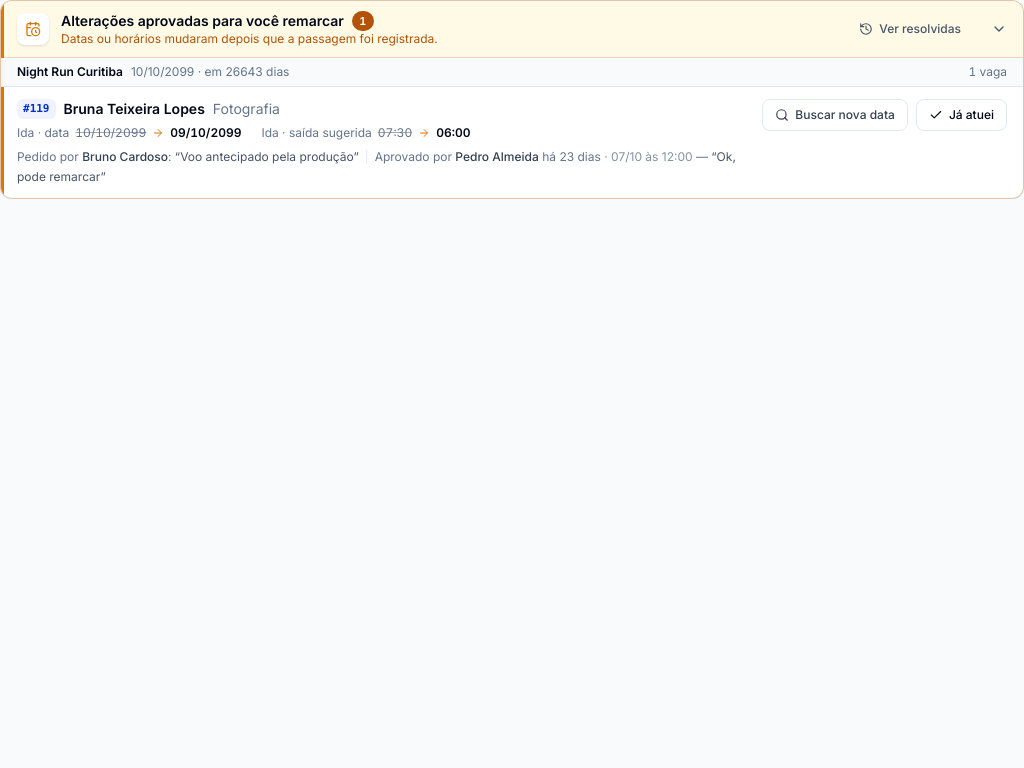
Test: BlocoDeAvisos (passagem) › erro que não é 409 fica dentro do popover, com o texto preservado para tentar de novo
Click the button "Já atuei".
click(961, 115)  # box [916, 99, 1007, 131]
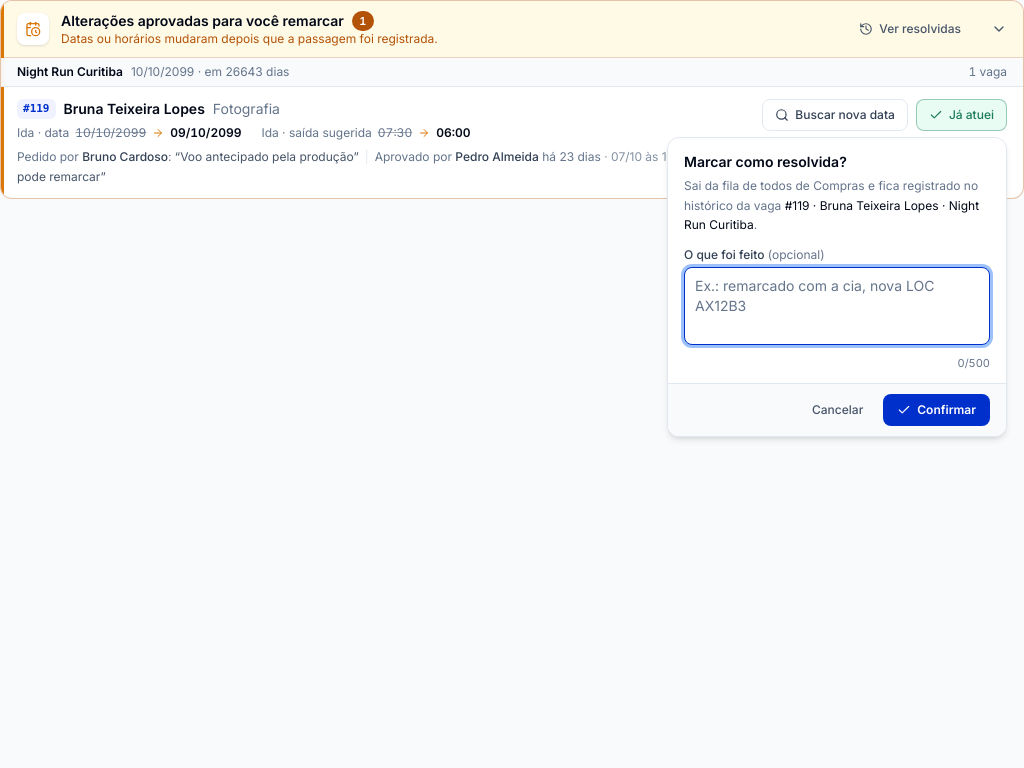
Type "Tentei remarcar" into the text box labelled "O que foi feito (opcional)".
click(837, 306); type("Tentei remarcar")  # box [684, 266, 990, 344]
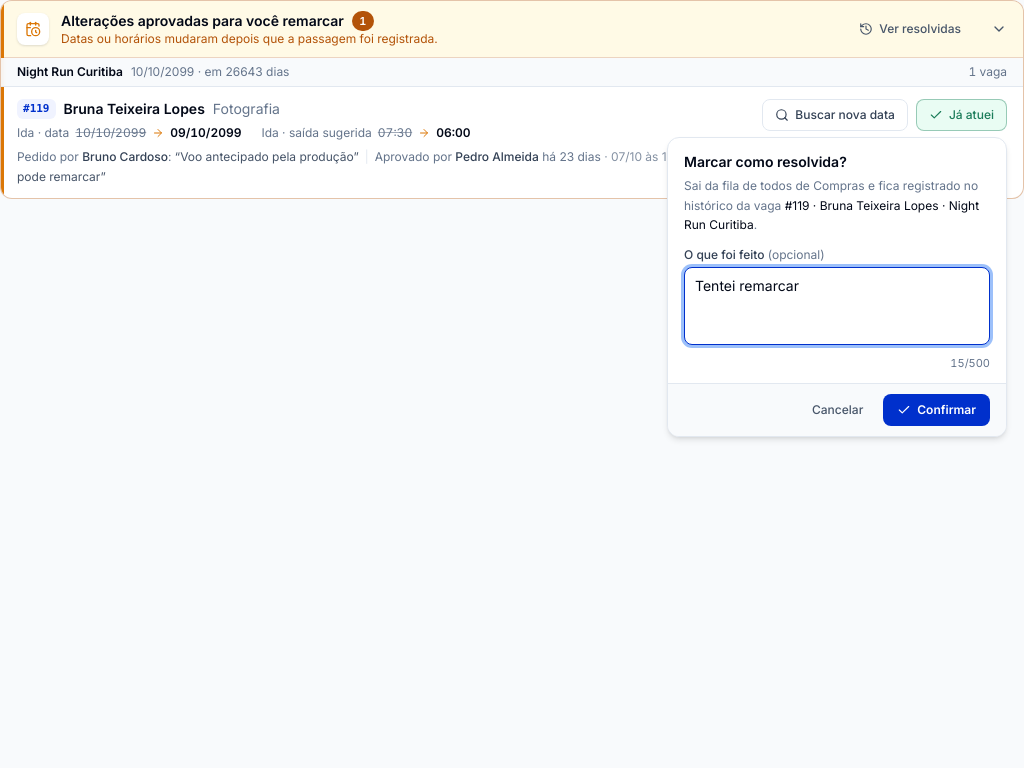
Click the button "Confirmar".
click(937, 410)  # box [883, 394, 990, 426]
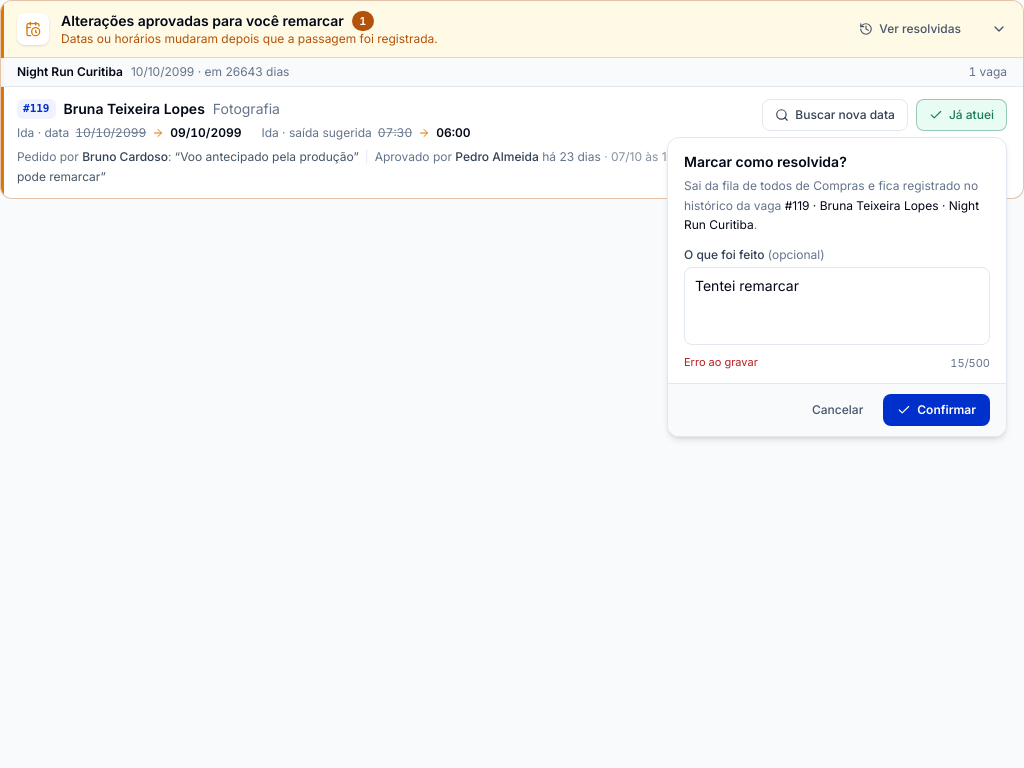
Check: the message reads "Erro ao gravar", box [684, 354, 758, 368]
